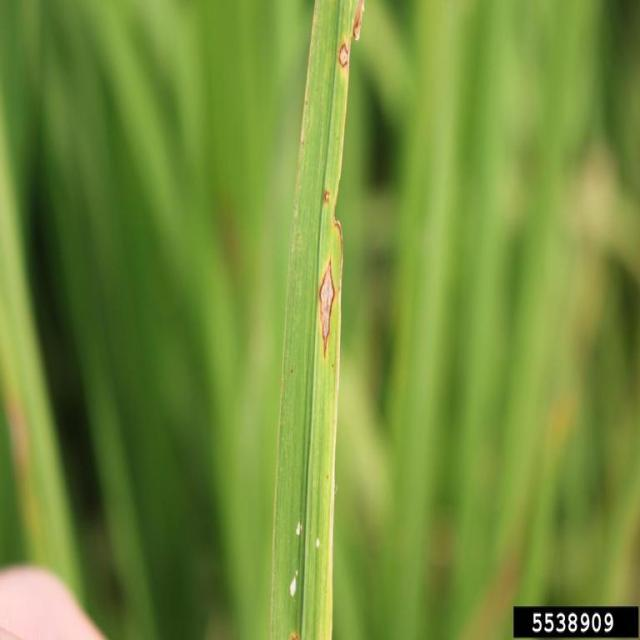Bacterial leaf blight: (299, 1, 321, 194), (315, 240, 339, 374), (328, 24, 351, 82), (320, 182, 342, 220), (284, 565, 305, 603), (350, 0, 366, 43), (294, 509, 311, 542)
